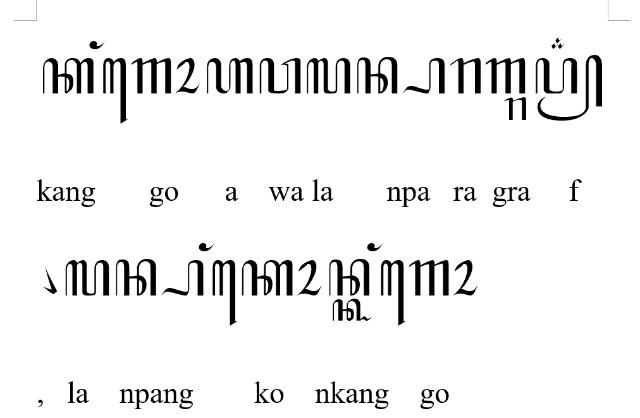-p: (535, 54, 603, 122)
_k: (332, 299, 372, 323)
_p: (401, 57, 445, 95), (160, 260, 204, 296)
alt: (550, 36, 566, 50)
e1: (102, 57, 128, 125), (212, 260, 238, 326), (380, 260, 406, 326)
g: (408, 260, 450, 298), (131, 58, 173, 94), (485, 58, 527, 94)
h: (206, 56, 254, 94)
k: (42, 58, 96, 94), (241, 260, 293, 296)
kom: (41, 266, 57, 294)
l: (305, 57, 351, 95), (64, 259, 110, 297)
n: (328, 258, 370, 298), (356, 57, 398, 95), (116, 259, 156, 297)
ng: (88, 40, 105, 50), (199, 242, 215, 252), (367, 243, 383, 253)
o: (453, 260, 479, 296), (175, 57, 199, 93), (297, 260, 321, 296)
r: (450, 58, 482, 94), (503, 97, 527, 121)
w: (258, 57, 302, 95)
